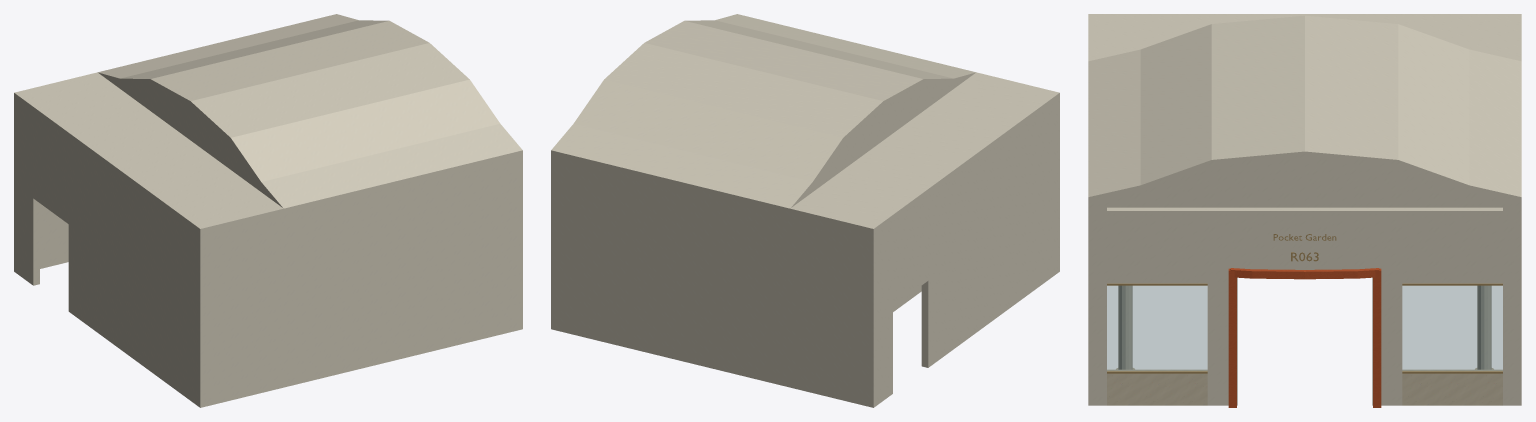
Rendered from SHOP_D09_S72_F080__shell.glb.
The picture shows the model from 3 angles, left to right: view 1: azimuth 30°, elevation 25°; view 2: azimuth 150°, elevation 25°; view 3: azimuth 270°, elevation 25°; orthographic projection. The views are drawn at different scales.
Parts seen in each view (by area): view 1: SHOP_D09_S72_F080__shell__ivory_enamel; view 2: SHOP_D09_S72_F080__shell__ivory_enamel; view 3: SHOP_D09_S72_F080__shell__ivory_enamel, SHOP_D09_S72_F080__shell__shop_glass, SHOP_D09_S72_F080__shell__warm_stone, SHOP_D09_S72_F080__shell__retail_terracotta_enamel, SHOP_D09_S72_F080__shell__champagne_metal.
Part boxes in pixels (x1,y1,x2,y2): SHOP_D09_S72_F080__shell__ivory_enamel: (14, 14, 522, 407); SHOP_D09_S72_F080__shell__ivory_enamel: (551, 14, 1059, 407); SHOP_D09_S72_F080__shell__ivory_enamel: (1088, 14, 1521, 405); SHOP_D09_S72_F080__shell__shop_glass: (1107, 286, 1502, 370); SHOP_D09_S72_F080__shell__warm_stone: (1107, 368, 1502, 405); SHOP_D09_S72_F080__shell__retail_terracotta_enamel: (1228, 268, 1381, 407); SHOP_D09_S72_F080__shell__champagne_metal: (1107, 234, 1502, 373).
Bounding box in the file's own units: 11.86 × 7.5 × 11.6.
6 materials, 4 textured.
